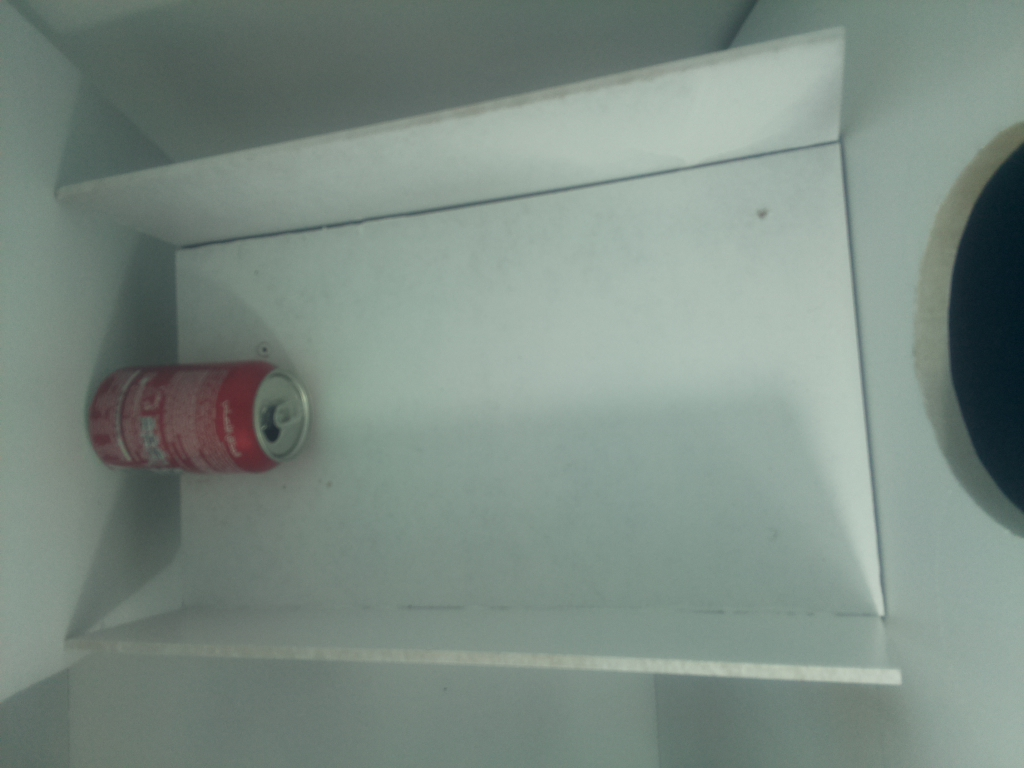kaleng: (87, 366, 310, 472)
